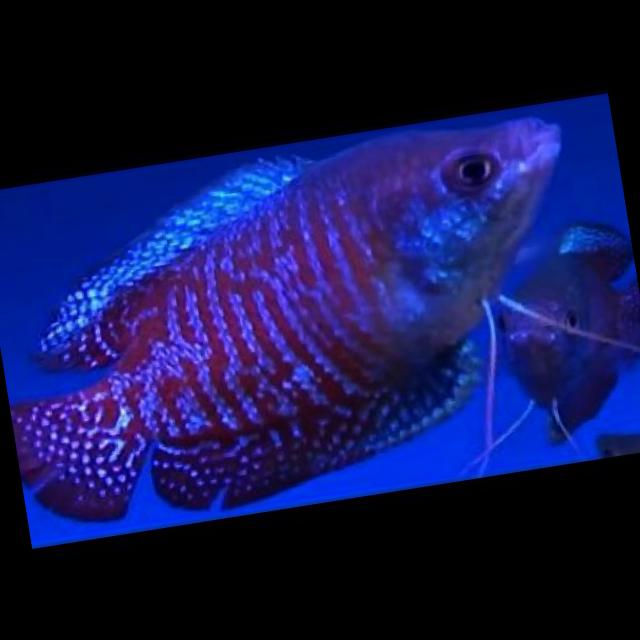Gourami: (0, 99, 614, 549)
